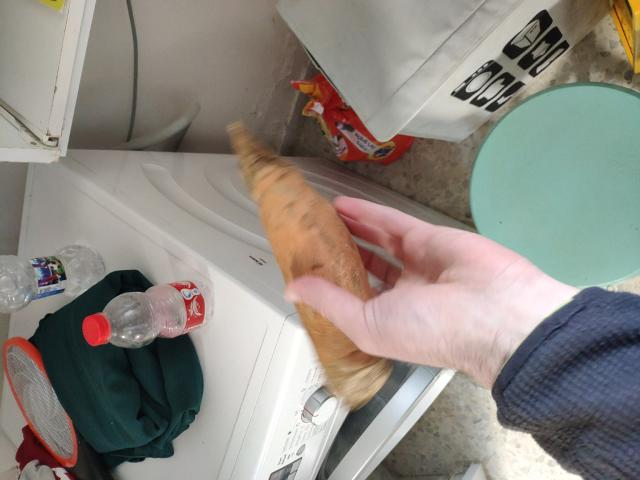sweet_potato: (244, 187, 384, 386)
